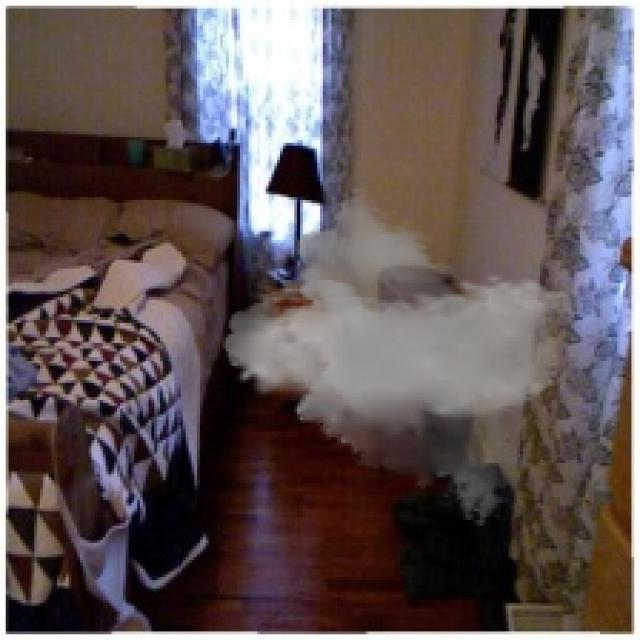smoke: (223, 186, 574, 528)
